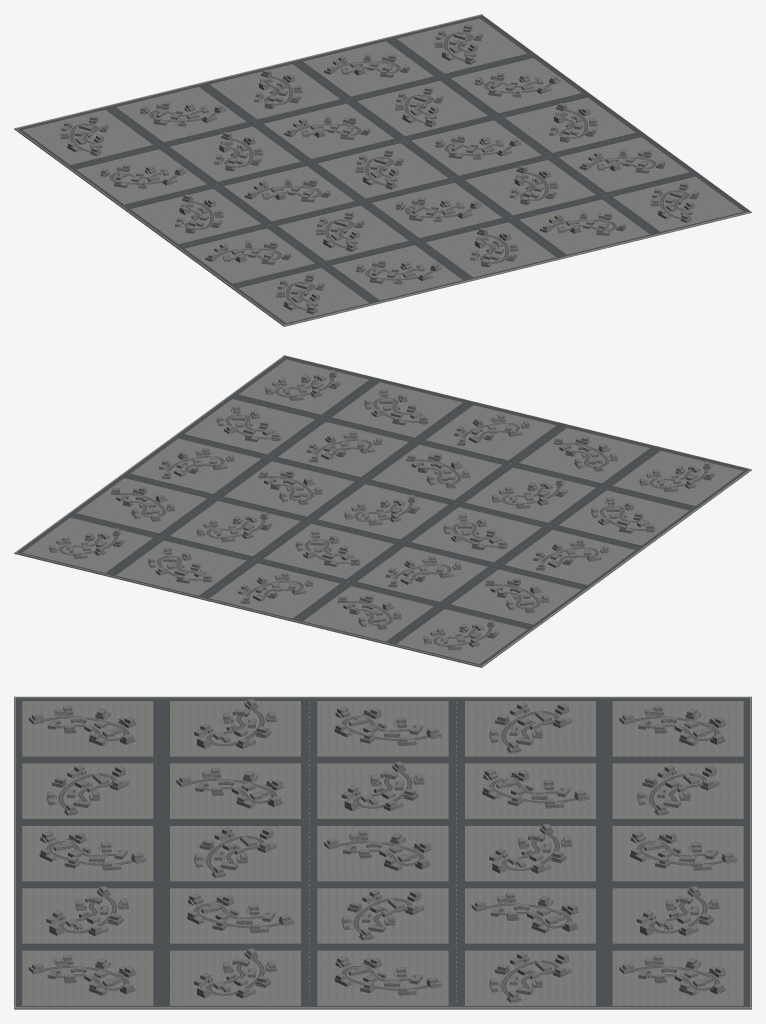
The model's file is extended_city.glb.
The picture shows the model from 3 angles, top to bottom: view 1: azimuth 30°, elevation 25°; view 2: azimuth 150°, elevation 25°; view 3: azimuth 270°, elevation 25°; orthographic projection. The views are drawn at different scales.
Visible parts, largest first — view 1: District paving (×25), Continuous city foundation, City perimeter (×4); view 2: District paving (×25), Continuous city foundation, City perimeter (×4); view 3: District paving (×25), Continuous city foundation, City perimeter (×4).
Boxes of the visible parts, left/top/right/bottom form: District paving (×25): left=22, top=18, right=743, bottom=323; Continuous city foundation: left=14, top=15, right=751, bottom=326; City perimeter (×4): left=14, top=14, right=751, bottom=326; District paving (×25): left=22, top=359, right=743, bottom=664; Continuous city foundation: left=14, top=356, right=751, bottom=667; City perimeter (×4): left=14, top=355, right=751, bottom=667; District paving (×25): left=22, top=701, right=743, bottom=1005; Continuous city foundation: left=14, top=698, right=751, bottom=1009; City perimeter (×4): left=14, top=696, right=751, bottom=1009.
Bounding box in the file's own units: 650 × 6.43 × 650.
6 materials, 3 textured.
